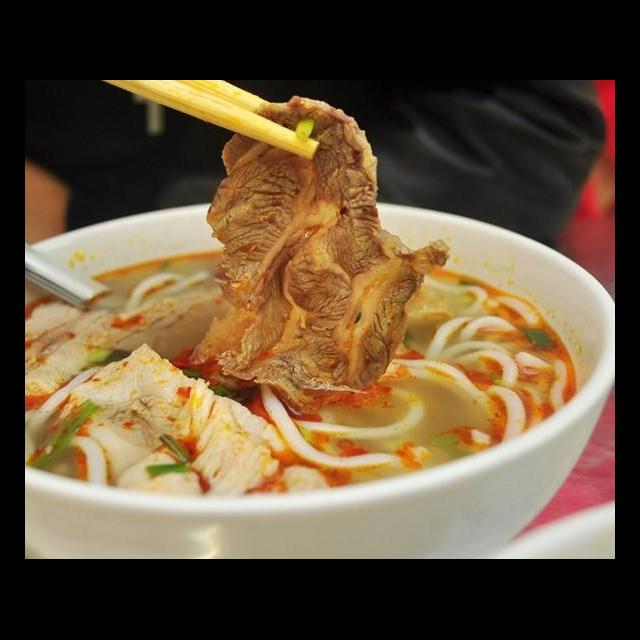bun: (383, 268, 573, 481), (246, 380, 433, 490), (108, 262, 220, 320), (26, 429, 114, 494)
bun bo: (45, 111, 615, 560)
thit bo: (183, 91, 458, 418)
